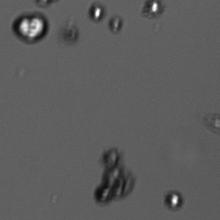Dead Cell: (100, 146, 122, 168), (91, 184, 113, 204), (112, 176, 130, 197), (99, 167, 120, 184), (62, 26, 78, 43)
Living Cell: (12, 12, 53, 45), (163, 188, 184, 211), (140, 1, 166, 18), (88, 3, 105, 23), (109, 16, 122, 33)
